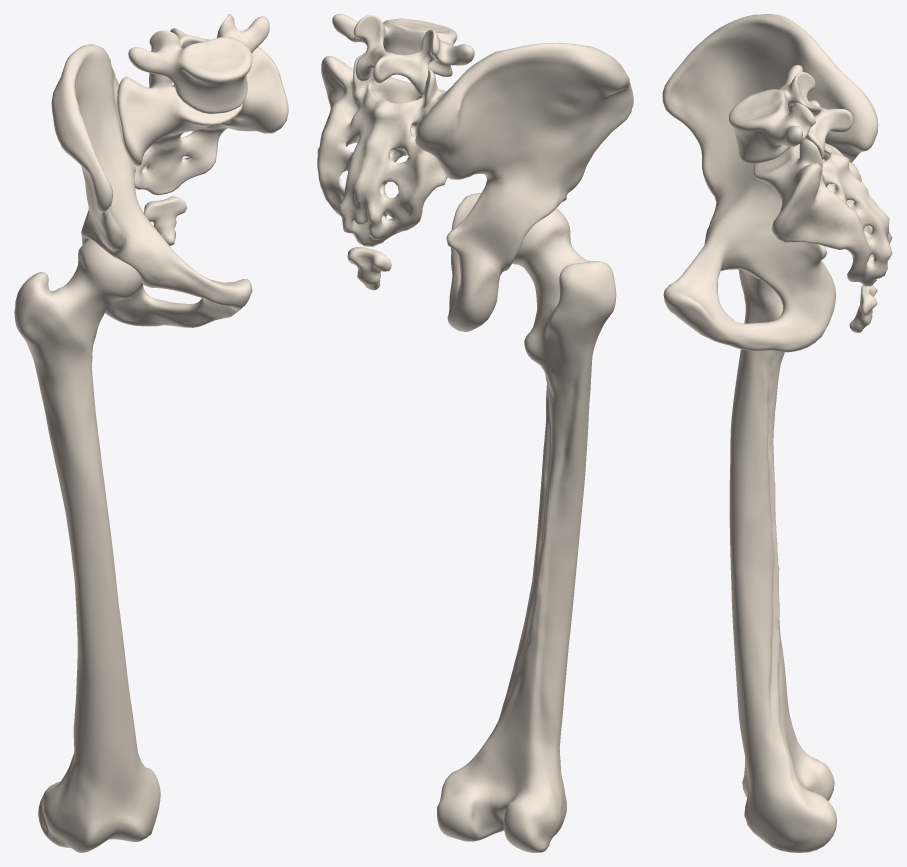
The model's file is hip_joint.glb.
The picture shows the model from 3 angles, left to right: view 1: azimuth 30°, elevation 25°; view 2: azimuth 150°, elevation 25°; view 3: azimuth 270°, elevation 25°; orthographic projection.
Visible parts, largest first — view 1: Femur.r, Hip bone.r, Sacrum, Lumbar vertebrae (L5), Coccyx; view 2: Femur.r, Hip bone.r, Sacrum, Lumbar vertebrae (L5), Coccyx; view 3: Hip bone.r, Femur.r, Sacrum, Lumbar vertebrae (L5), Coccyx.
Boxes of the visible parts, left/top/right/bottom form: Femur.r: left=14, top=239, right=160, bottom=852; Hip bone.r: left=51, top=44, right=252, bottom=327; Sacrum: left=117, top=47, right=288, bottom=195; Lumbar vertebrae (L5): left=128, top=14, right=269, bottom=113; Coccyx: left=143, top=196, right=187, bottom=245; Femur.r: left=437, top=208, right=616, bottom=852; Hip bone.r: left=415, top=42, right=633, bottom=331; Sacrum: left=317, top=54, right=447, bottom=246; Lumbar vertebrae (L5): left=332, top=14, right=474, bottom=95; Coccyx: left=347, top=247, right=391, bottom=290; Hip bone.r: left=662, top=14, right=878, bottom=352; Femur.r: left=729, top=269, right=836, bottom=852; Sacrum: left=753, top=100, right=892, bottom=286; Lumbar vertebrae (L5): left=729, top=65, right=853, bottom=164; Coccyx: left=849, top=285, right=877, bottom=332.
Size of the model in its own units: 0.21 by 0.5789 by 0.151.
